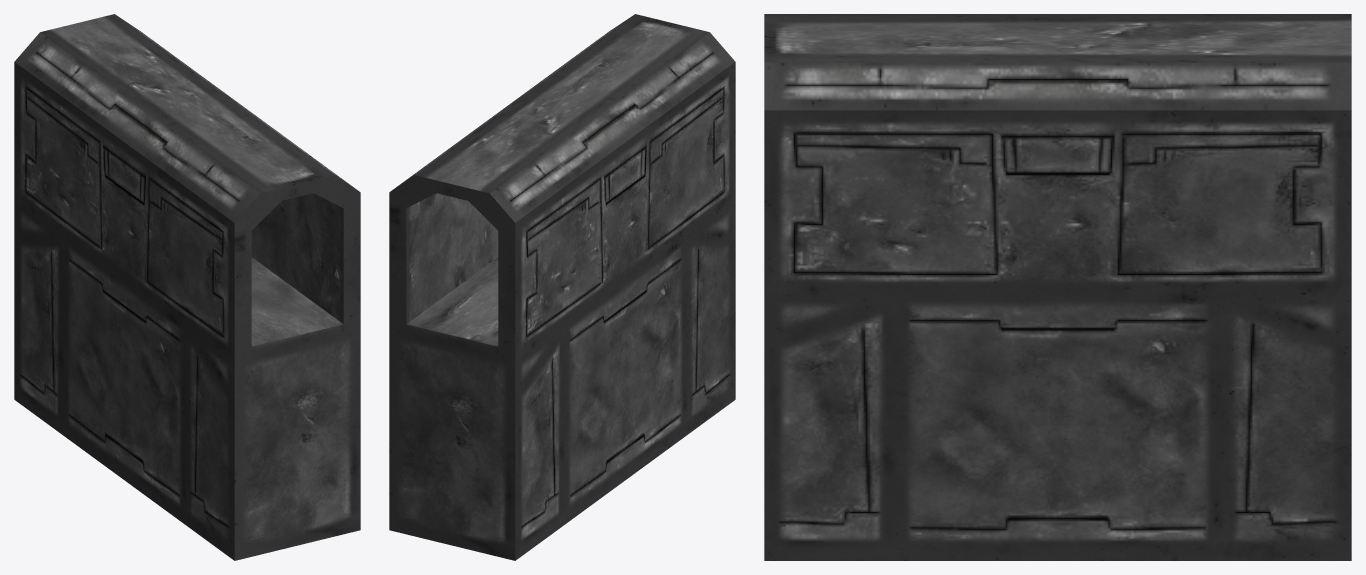
File: BridgeTunnel.fbx
The picture shows the model from 3 angles, left to right: view 1: azimuth 30°, elevation 25°; view 2: azimuth 150°, elevation 25°; view 3: azimuth 270°, elevation 25°; orthographic projection. The views are drawn at different scales.
Visible parts, largest first — view 1: BridgeTunnel; view 2: BridgeTunnel; view 3: BridgeTunnel.
Boxes of the visible parts, x1,y1,x2,y2 form: BridgeTunnel: (14,14,360,560); BridgeTunnel: (389,14,735,560); BridgeTunnel: (764,14,1351,560).
Size of the model in its own units: 0.8101 by 2.22 by 2.46.
